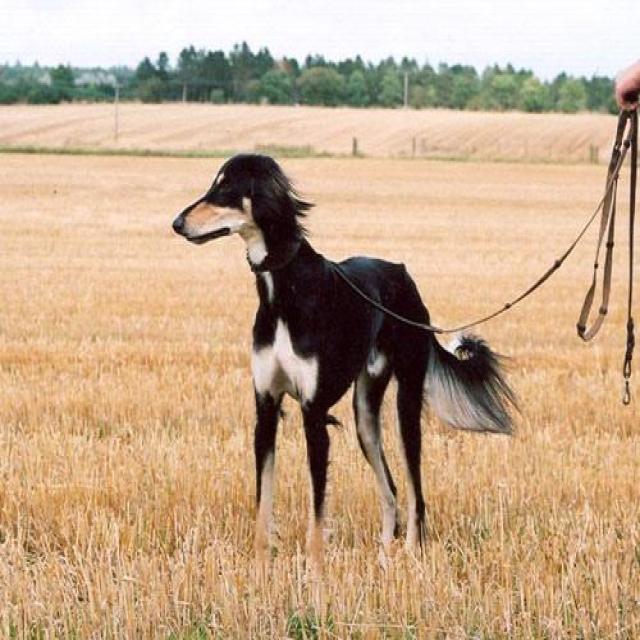saluki: (168, 148, 521, 570)
